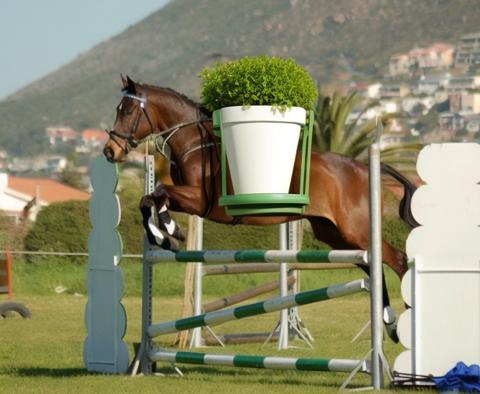horse: (104, 74, 420, 344)
pottedplant: (200, 55, 320, 217)
